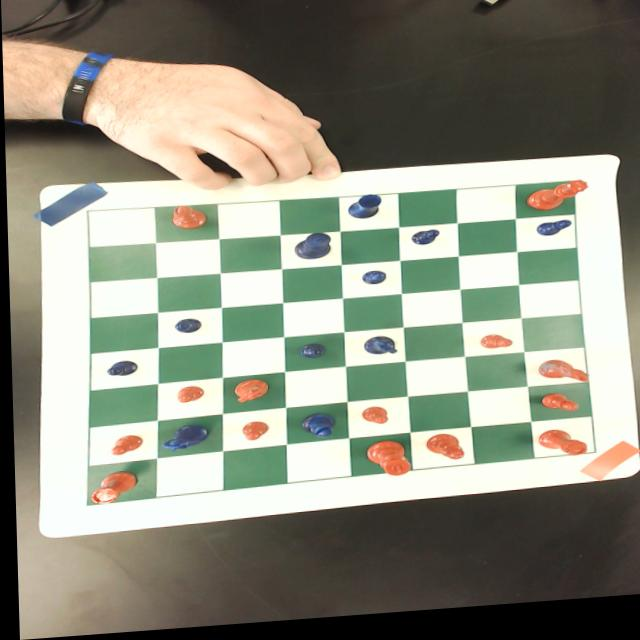B: (296, 418, 333, 444)
K: (291, 237, 330, 265)
N: (155, 426, 208, 456), (358, 340, 398, 363)
P: (532, 227, 570, 245), (102, 361, 136, 379), (409, 235, 438, 253), (170, 321, 201, 337), (358, 275, 385, 292), (297, 348, 323, 364)
R: (344, 200, 381, 226)
b: (418, 439, 463, 470), (165, 203, 207, 235)
k: (360, 445, 407, 484)
n: (534, 366, 587, 394), (227, 382, 268, 408)
p: (537, 400, 577, 422), (105, 436, 142, 458), (236, 424, 266, 445), (476, 340, 510, 358), (358, 411, 386, 431), (173, 388, 203, 406)
q: (524, 188, 587, 220)
r: (81, 472, 134, 506), (532, 437, 586, 467)
